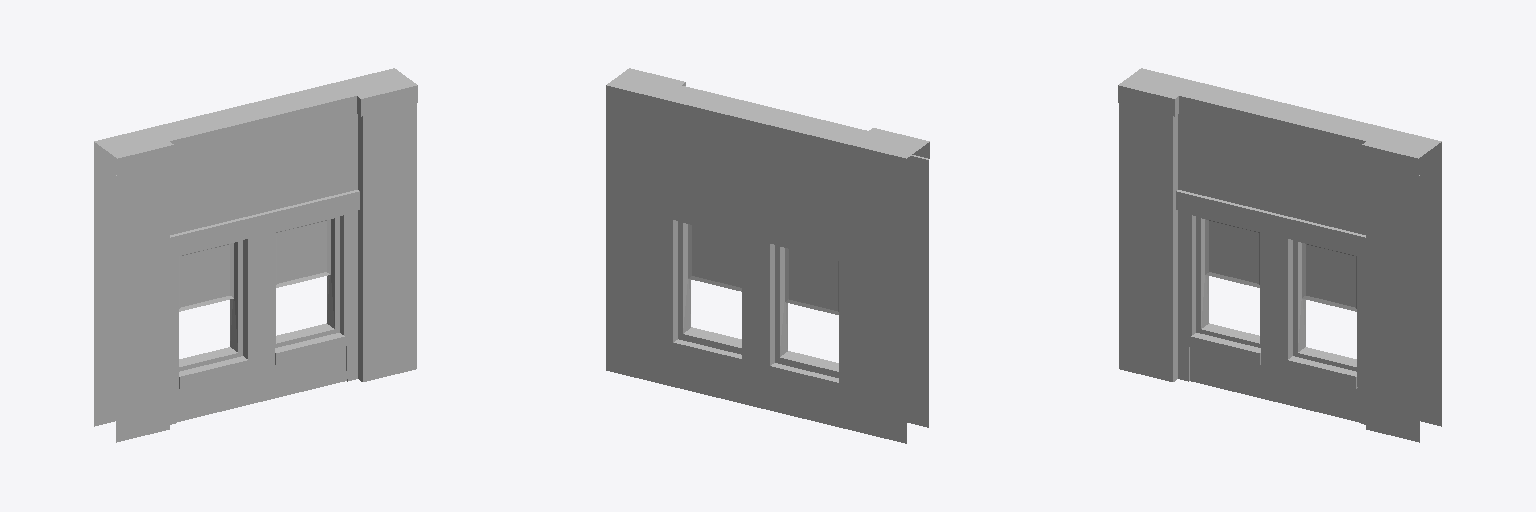
File: Building_Top_Straight_A_LOD1.obj
3 views of the same model, side by side, from view 1: azimuth 30°, elevation 25°; view 2: azimuth 150°, elevation 25°; view 3: azimuth 330°, elevation 25° (orthographic).
Visible parts, largest first — view 1: Building_Top_Straight_A_LOD1 Building_Top_Straight_A; view 2: Building_Top_Straight_A_LOD1 Building_Top_Straight_A; view 3: Building_Top_Straight_A_LOD1 Building_Top_Straight_A.
Boxes of the visible parts, x1=… form: Building_Top_Straight_A_LOD1 Building_Top_Straight_A: x1=94, y1=68, x2=417, y2=442; Building_Top_Straight_A_LOD1 Building_Top_Straight_A: x1=606, y1=68, x2=929, y2=443; Building_Top_Straight_A_LOD1 Building_Top_Straight_A: x1=1118, y1=68, x2=1441, y2=442.
Size of the model in its own units: 500 by 453 by 67.75.